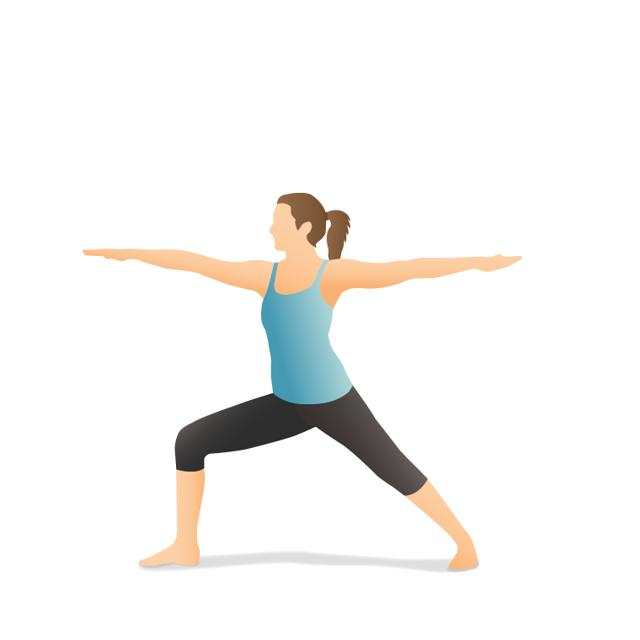Warrior_II: (78, 193, 525, 575)
